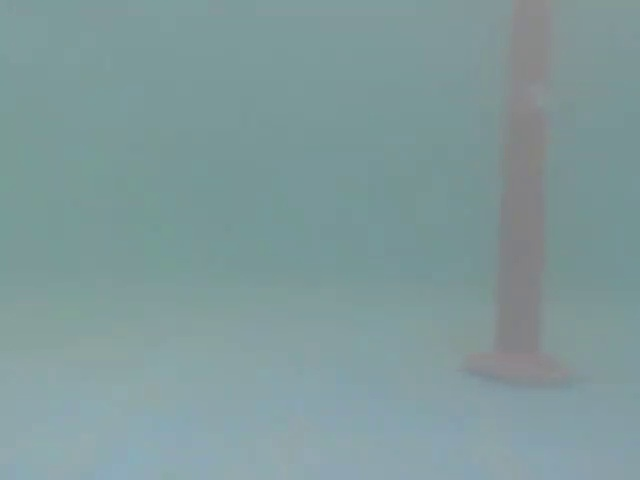flare: (460, 0, 576, 400)
